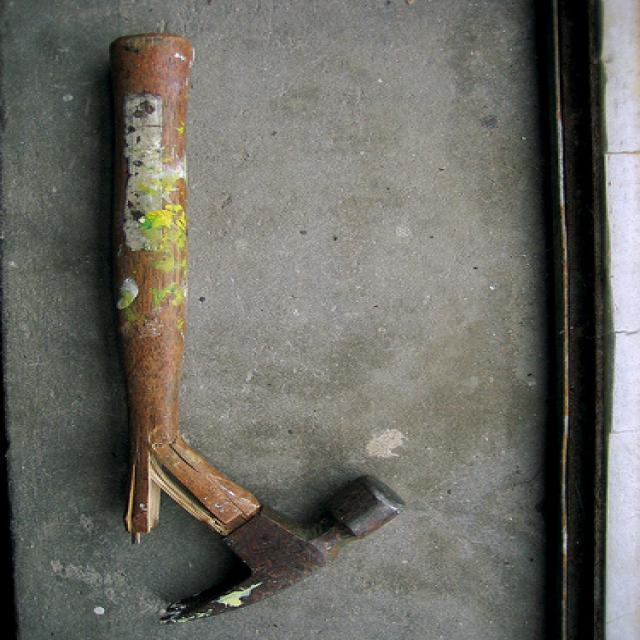hammer: (80, 6, 398, 630)
